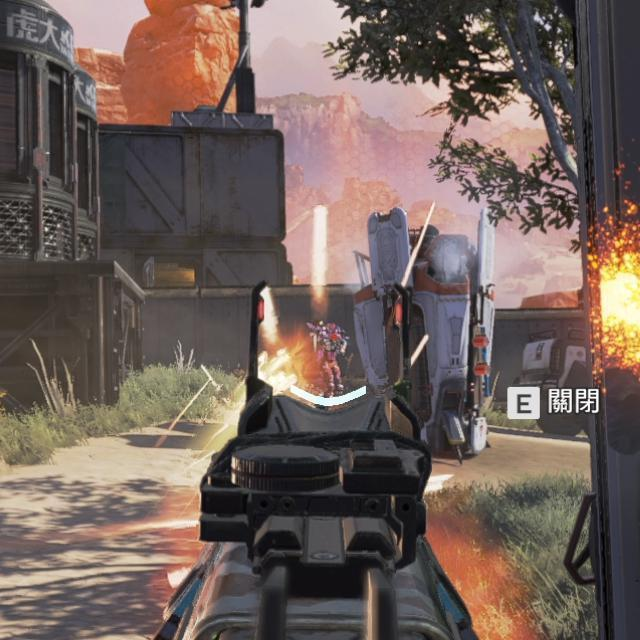avatar: (306, 320, 349, 398)
